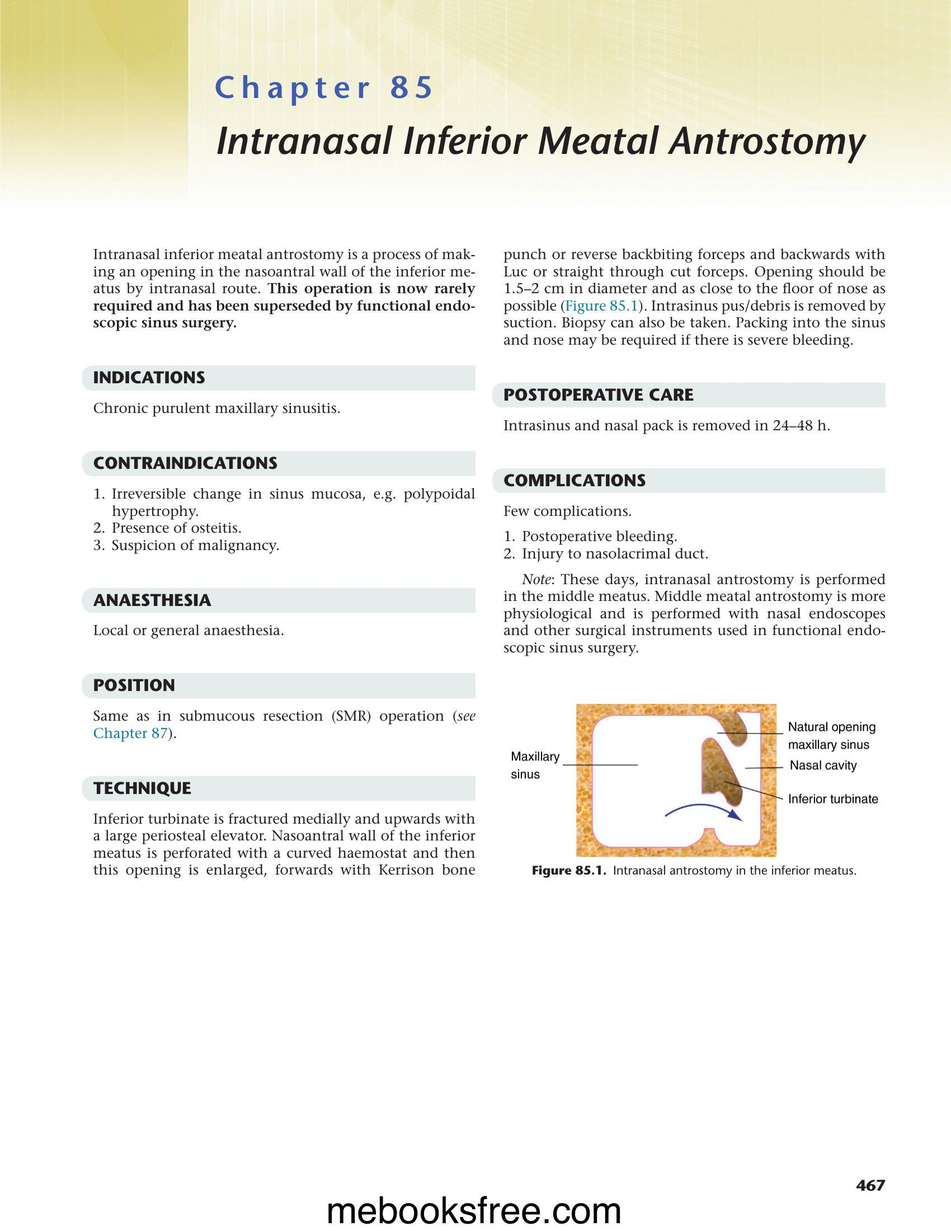caption: (530, 863, 857, 880)
chapter-heading: (215, 123, 869, 166)
image: (500, 693, 893, 861)
list: (92, 487, 475, 557), (502, 529, 709, 563)
section-heading: (503, 386, 696, 402), (93, 455, 279, 470), (502, 472, 646, 488), (92, 592, 213, 607), (93, 781, 192, 797), (93, 370, 206, 384), (93, 677, 176, 691)
text: (503, 247, 886, 350), (90, 245, 477, 334), (502, 572, 887, 658), (92, 811, 476, 879), (91, 709, 476, 744), (503, 419, 832, 435), (93, 401, 341, 418), (93, 624, 285, 640), (503, 504, 634, 521)
